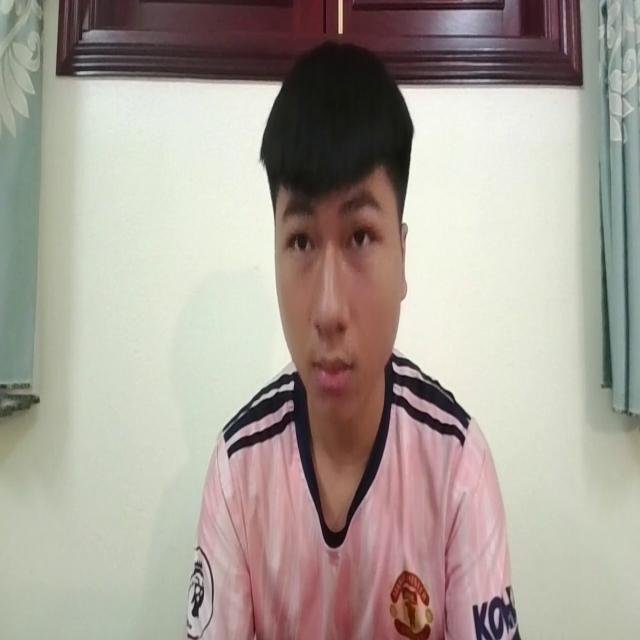student: (196, 63, 519, 640)
